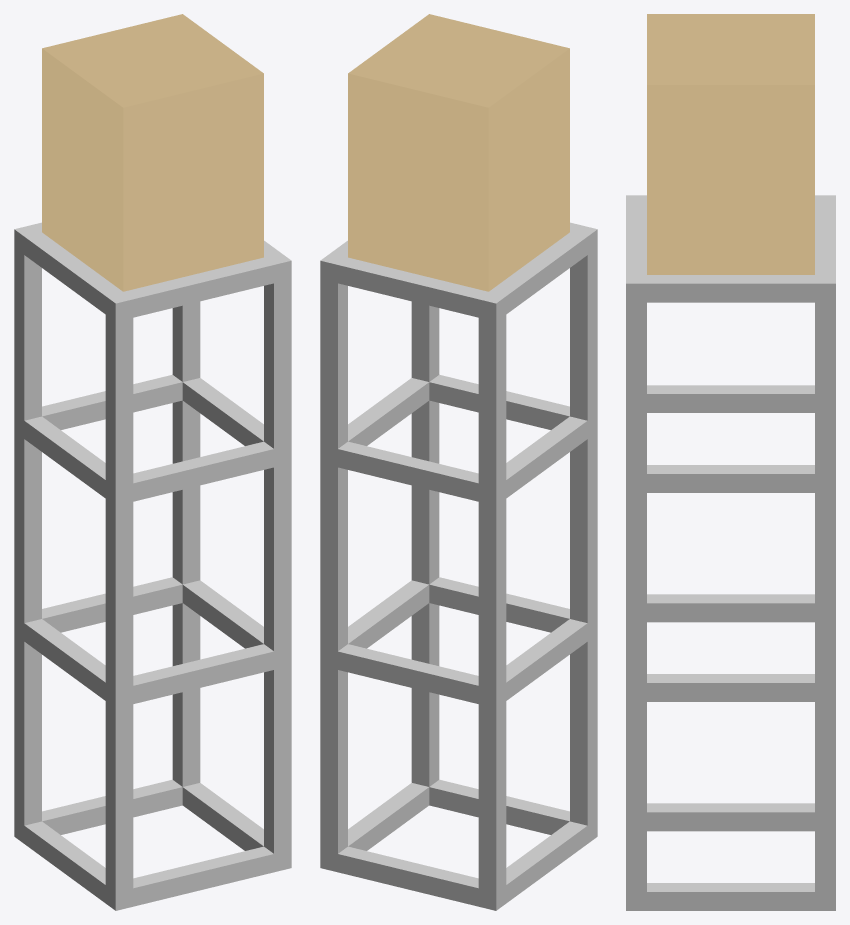
The model's file is lamp.gltf.
3 renders of one model, left to right at view 1: azimuth 30°, elevation 25°; view 2: azimuth 150°, elevation 25°; view 3: azimuth 270°, elevation 25°, orthographic. The views are drawn at different scales.
Visible parts, largest first — view 1: Lamp_Rect; view 2: Lamp_Rect; view 3: Lamp_Rect.
Part boxes in pixels (<box>): Lamp_Rect: <box>14,14,291,910</box>; Lamp_Rect: <box>320,14,597,910</box>; Lamp_Rect: <box>626,14,835,910</box>.
Size of the model in its own units: 0.4 by 1.72 by 0.4.
